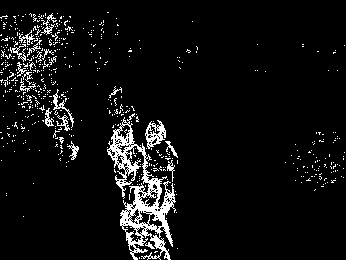person: (119, 184, 175, 260), (144, 120, 179, 207), (109, 124, 146, 201), (45, 94, 80, 164)
